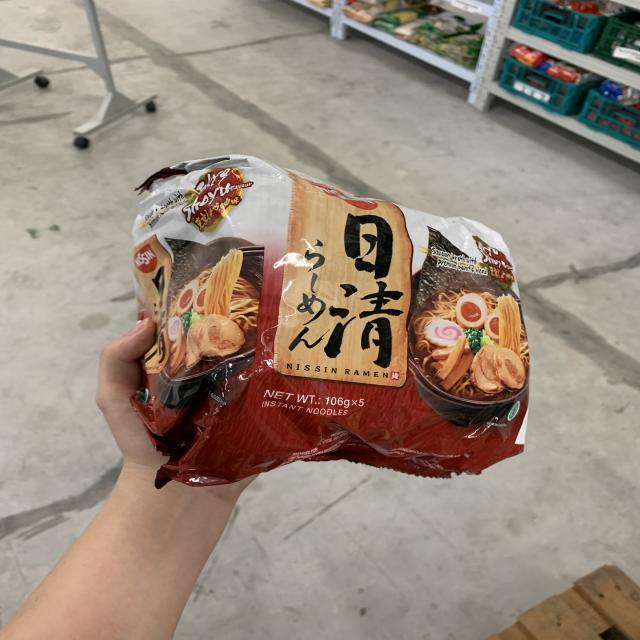object_name: (158, 171, 516, 456)
